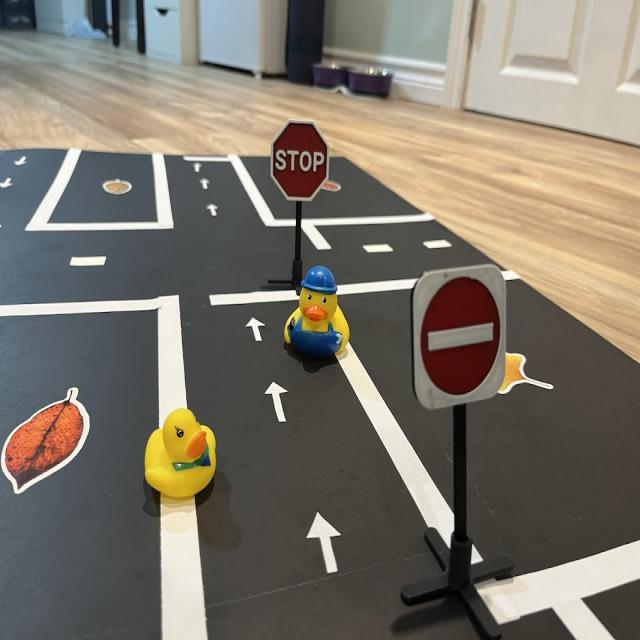duck_regular: (143, 408, 219, 501)
duck_specialty: (284, 264, 351, 360)
road_oneway: (306, 508, 344, 581), (264, 374, 293, 432), (245, 316, 269, 348), (204, 199, 223, 222), (13, 153, 28, 171), (1, 178, 19, 190), (200, 177, 211, 194), (193, 162, 203, 175)
sign_noentry: (415, 263, 505, 412)
sign_stop: (274, 123, 331, 197)
